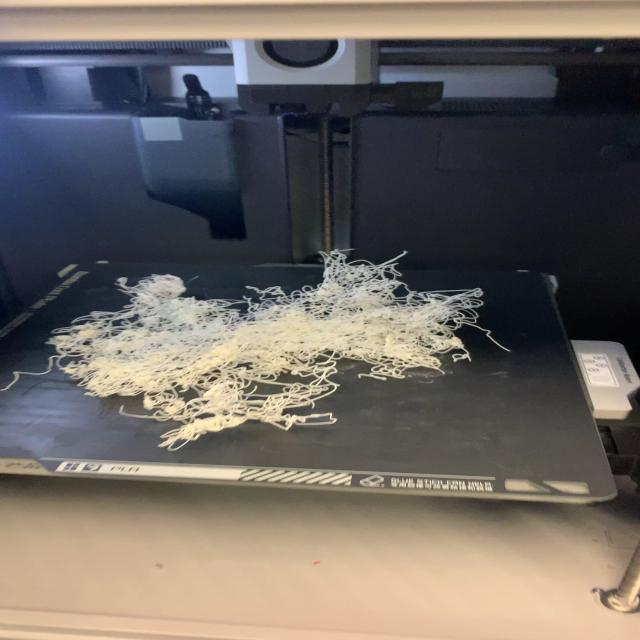spaghetti: (5, 246, 514, 453)
